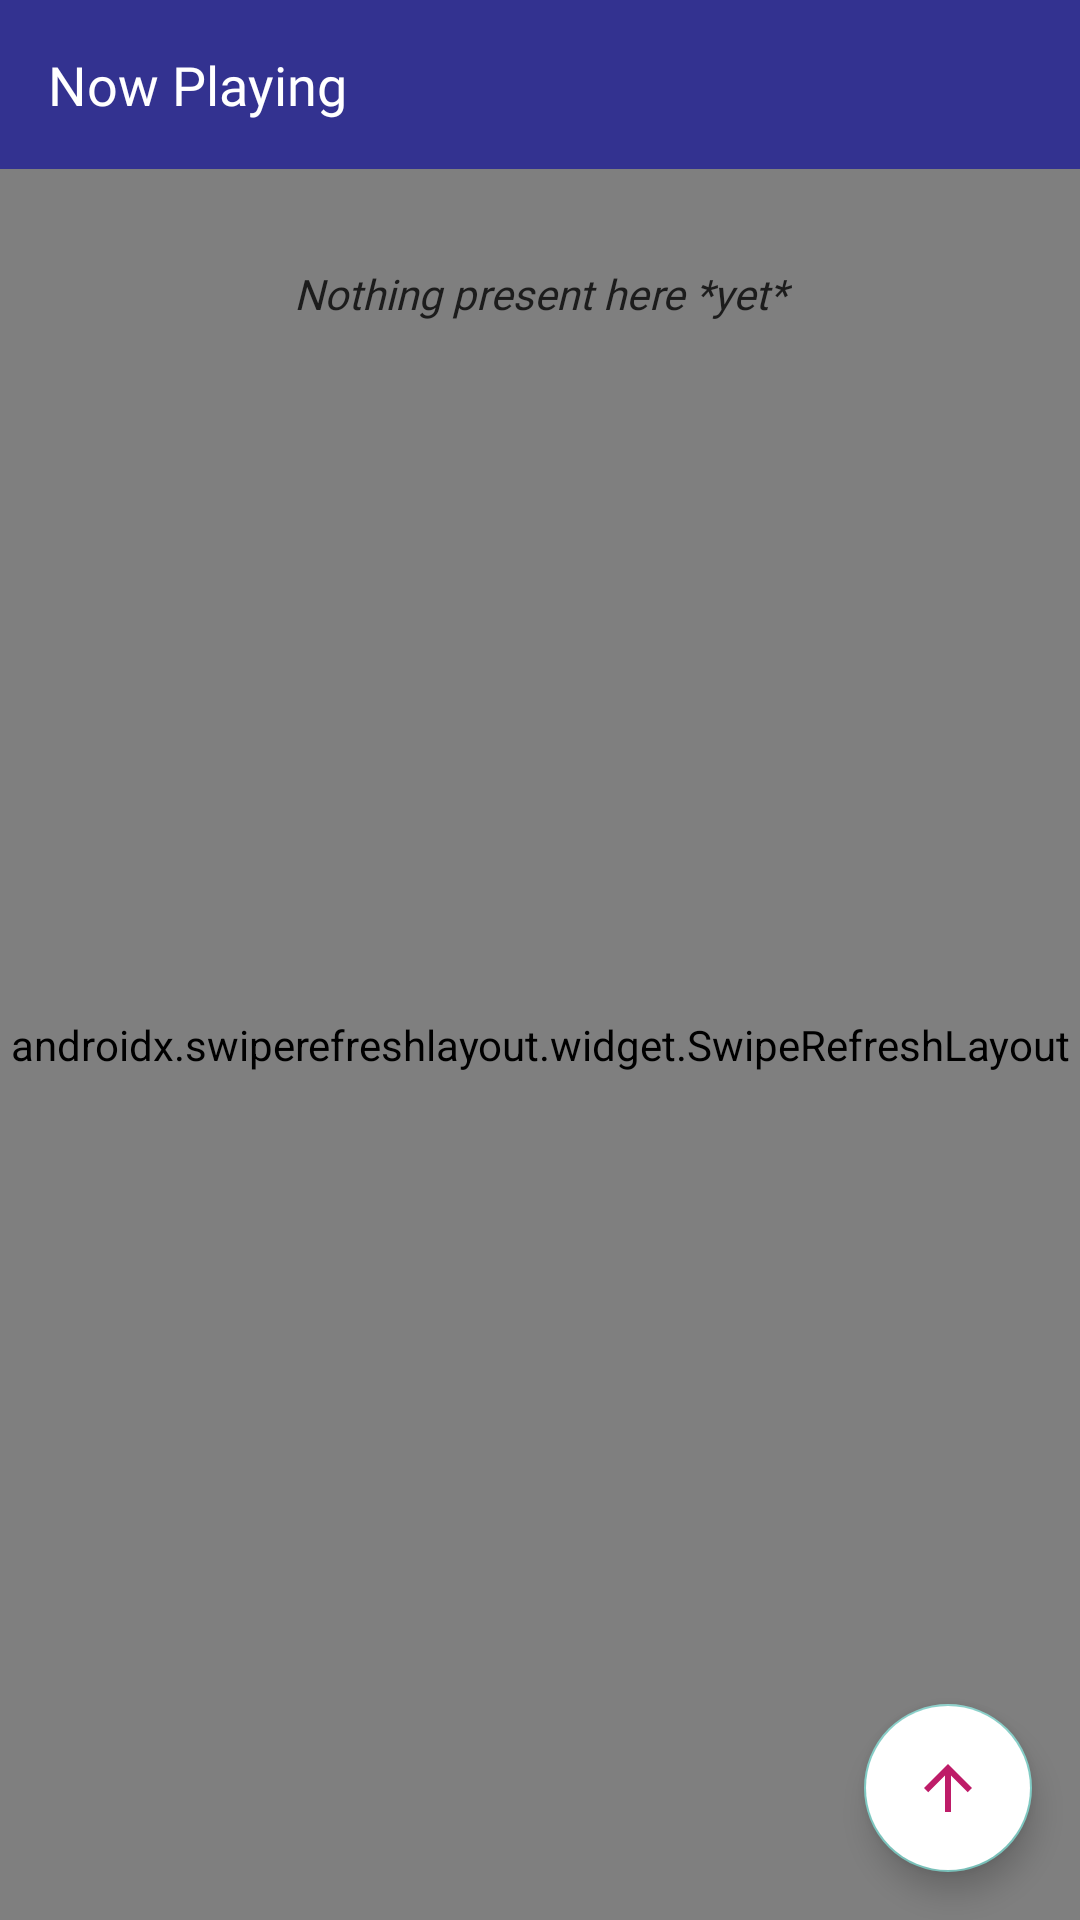

Where icons sit on this 1080 x 1920 app screen, as detection(x1, y1, x2, y2):
Move To Top: detection(864, 1704, 1032, 1872)
